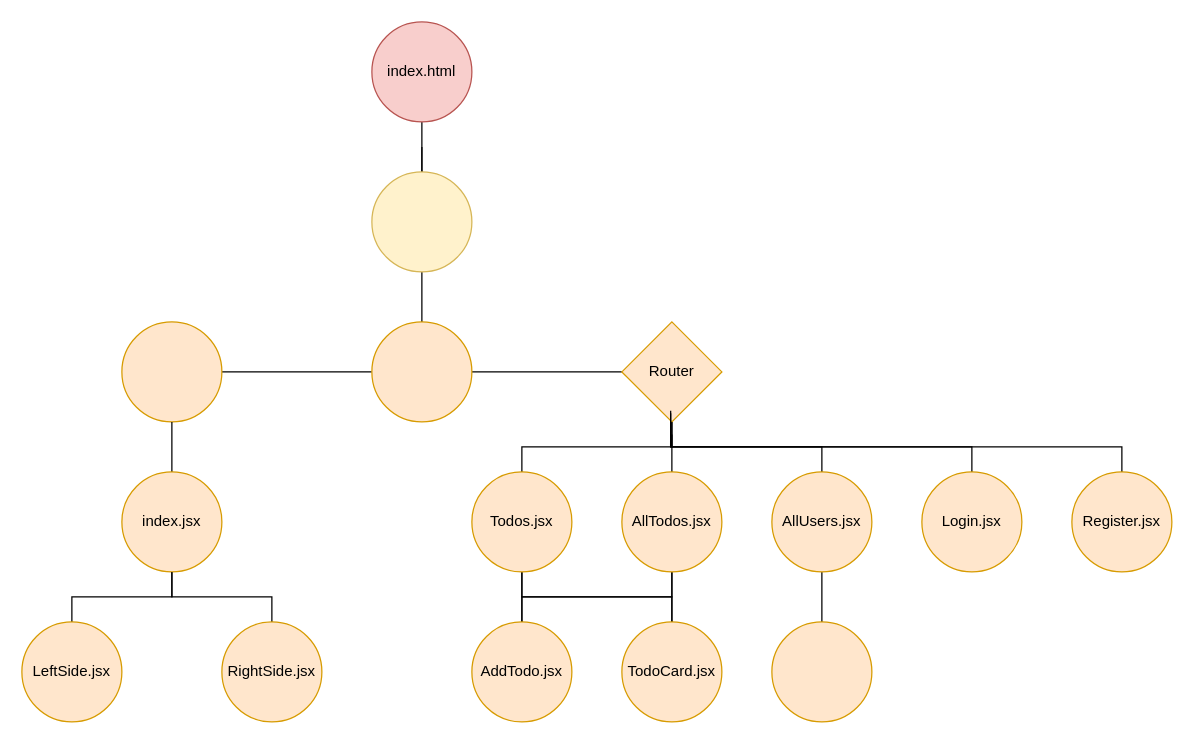
This 1194x744 diagram has some shape labels left out. Here are the shapes that lost their labels. From the top down, the centre of each, then its label:
point 421,221: index.js
point 171,371: Header
point 421,371: app.js
point 821,671: UserCard.jsx
